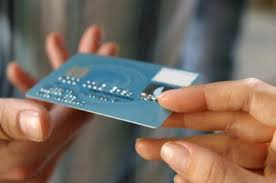tarjeta: (25, 52, 201, 129)
